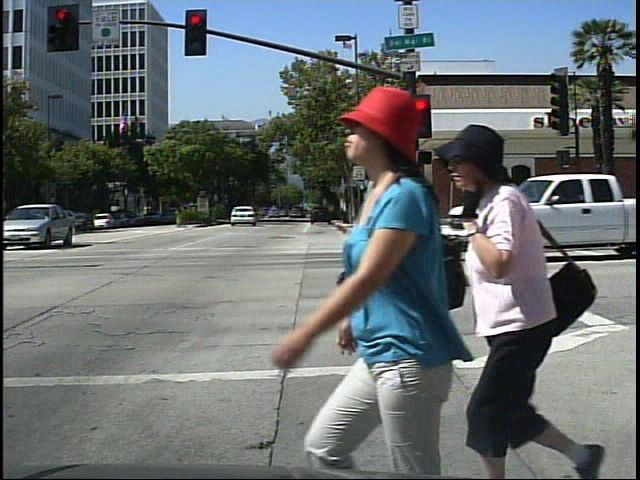person: (291, 65, 471, 478), (446, 117, 593, 480)
